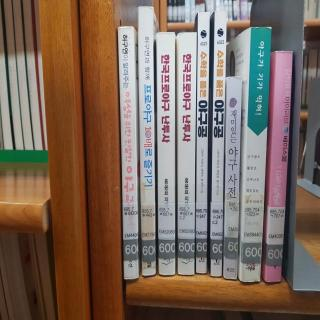book-spine: (240, 26, 271, 282), (265, 50, 293, 283), (175, 32, 197, 275), (137, 6, 156, 276), (118, 26, 138, 278), (156, 32, 176, 275), (209, 10, 226, 276), (195, 11, 210, 274), (223, 77, 241, 281), (242, 205, 264, 264), (265, 206, 285, 266), (177, 203, 195, 258), (158, 203, 175, 258), (122, 202, 138, 260), (224, 200, 239, 259), (141, 204, 155, 262), (210, 203, 223, 260), (195, 202, 207, 257)
